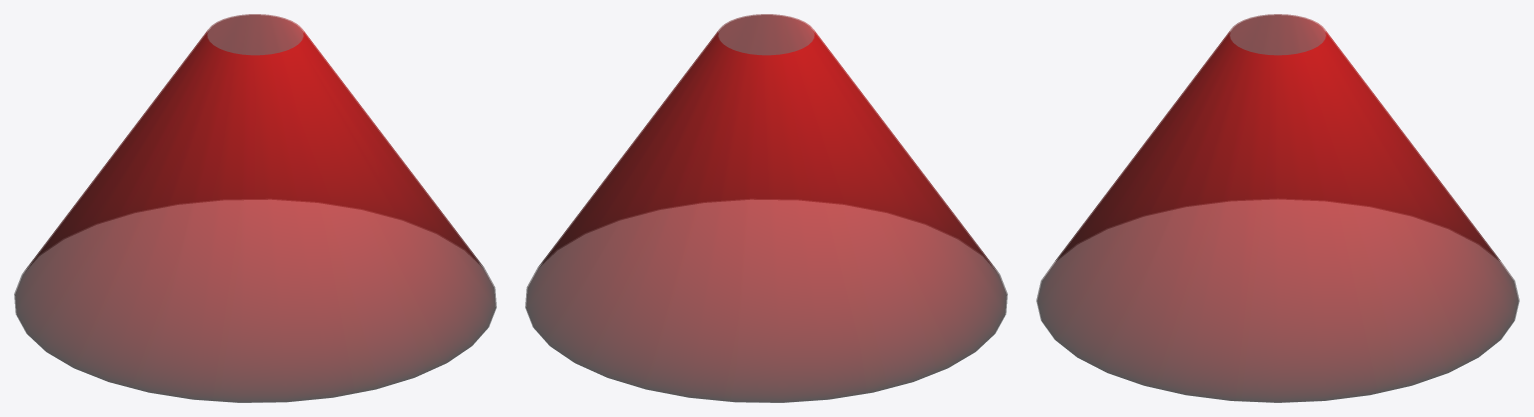
File: FloorLampLight.fbx
The picture shows the model from 3 angles, left to right: view 1: azimuth 30°, elevation 25°; view 2: azimuth 150°, elevation 25°; view 3: azimuth 270°, elevation 25°; orthographic projection.
Parts seen in each view (by area): view 1: Cylinder; view 2: Cylinder; view 3: Cylinder.
Boxes of the visible parts, x1,y1,x2,y2 form: Cylinder: (14,14,496,402); Cylinder: (525,14,1007,402); Cylinder: (1036,14,1519,402).
Size of the model in its own units: 11.16 by 6.79 by 11.16.
